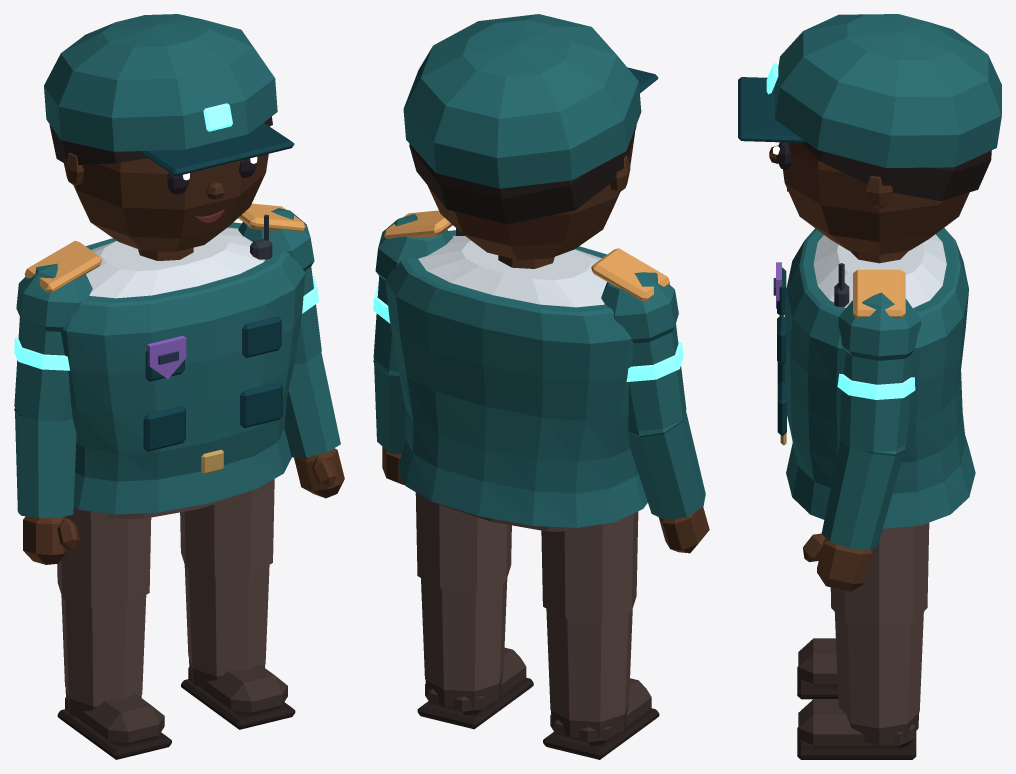
The model's file is sic_spo.glb.
3 renders of one model, left to right at view 1: azimuth 30°, elevation 25°; view 2: azimuth 150°, elevation 25°; view 3: azimuth 270°, elevation 25°, orthographic.
Visible parts, largest first — view 1: jacke, kopfbedeckung, bein_r, bein_l, arm_r, kopf, arm_l, torso, taschen, schuh_r, schuh_l, schulterklappen (+6 smaller); view 2: jacke, kopfbedeckung, bein_r, bein_l, arm_r, torso, haare, kopf, arm_l, schuh_r, schuh_l, schulterklappen (+1 smaller); view 3: kopfbedeckung, jacke, arm_l, bein_l, kopf, schuh_l, torso, haare, hand_l, schuh_r, schulterklappen, taschen (+2 smaller).
Boxes of the visible parts, x1,y1,x2,y2 form: jacke: [61, 222, 305, 514]; kopfbedeckung: [44, 14, 294, 176]; bein_r: [57, 507, 151, 706]; bein_l: [180, 479, 274, 676]; arm_r: [14, 263, 92, 517]; kopf: [63, 152, 268, 251]; arm_l: [238, 208, 340, 457]; torso: [86, 227, 264, 298]; taschen: [143, 316, 282, 451]; schuh_r: [57, 689, 171, 759]; schuh_l: [181, 658, 295, 729]; schulterklappen: [24, 203, 305, 292]; jacke: [385, 230, 647, 527]; kopfbedeckung: [403, 14, 658, 188]; bein_r: [541, 511, 638, 721]; bein_l: [415, 492, 511, 691]; arm_r: [601, 272, 705, 520]; torso: [418, 235, 606, 307]; haare: [409, 125, 636, 224]; kopf: [428, 133, 634, 259]; arm_l: [373, 214, 452, 454]; schuh_r: [543, 678, 659, 759]; schuh_l: [417, 647, 533, 729]; schulterklappen: [384, 210, 669, 301]; kopfbedeckung: [738, 14, 1001, 167]; jacke: [784, 228, 975, 528]; arm_l: [821, 292, 921, 550]; bein_l: [830, 522, 929, 728]; kopf: [783, 142, 969, 254]; schuh_l: [797, 699, 919, 759]; torso: [813, 234, 946, 307]; haare: [801, 142, 991, 201]; hand_l: [803, 533, 872, 591]; schuh_r: [797, 638, 838, 699]; schulterklappen: [853, 269, 905, 318]; taschen: [777, 267, 786, 435].
Size of the model in its own units: 0.0127 by 0.0259 by 0.00903.
